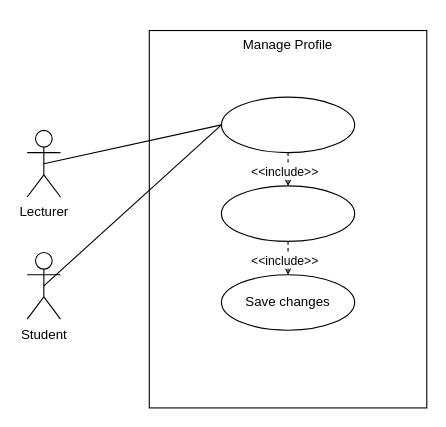
The diagram is 446 pixels wide and 427 high, and some of its shapes have lost their labels. The centre of each missing label's shape, as x and y in pixels:
Update profile: [287,213]
View profile: [287,124]
